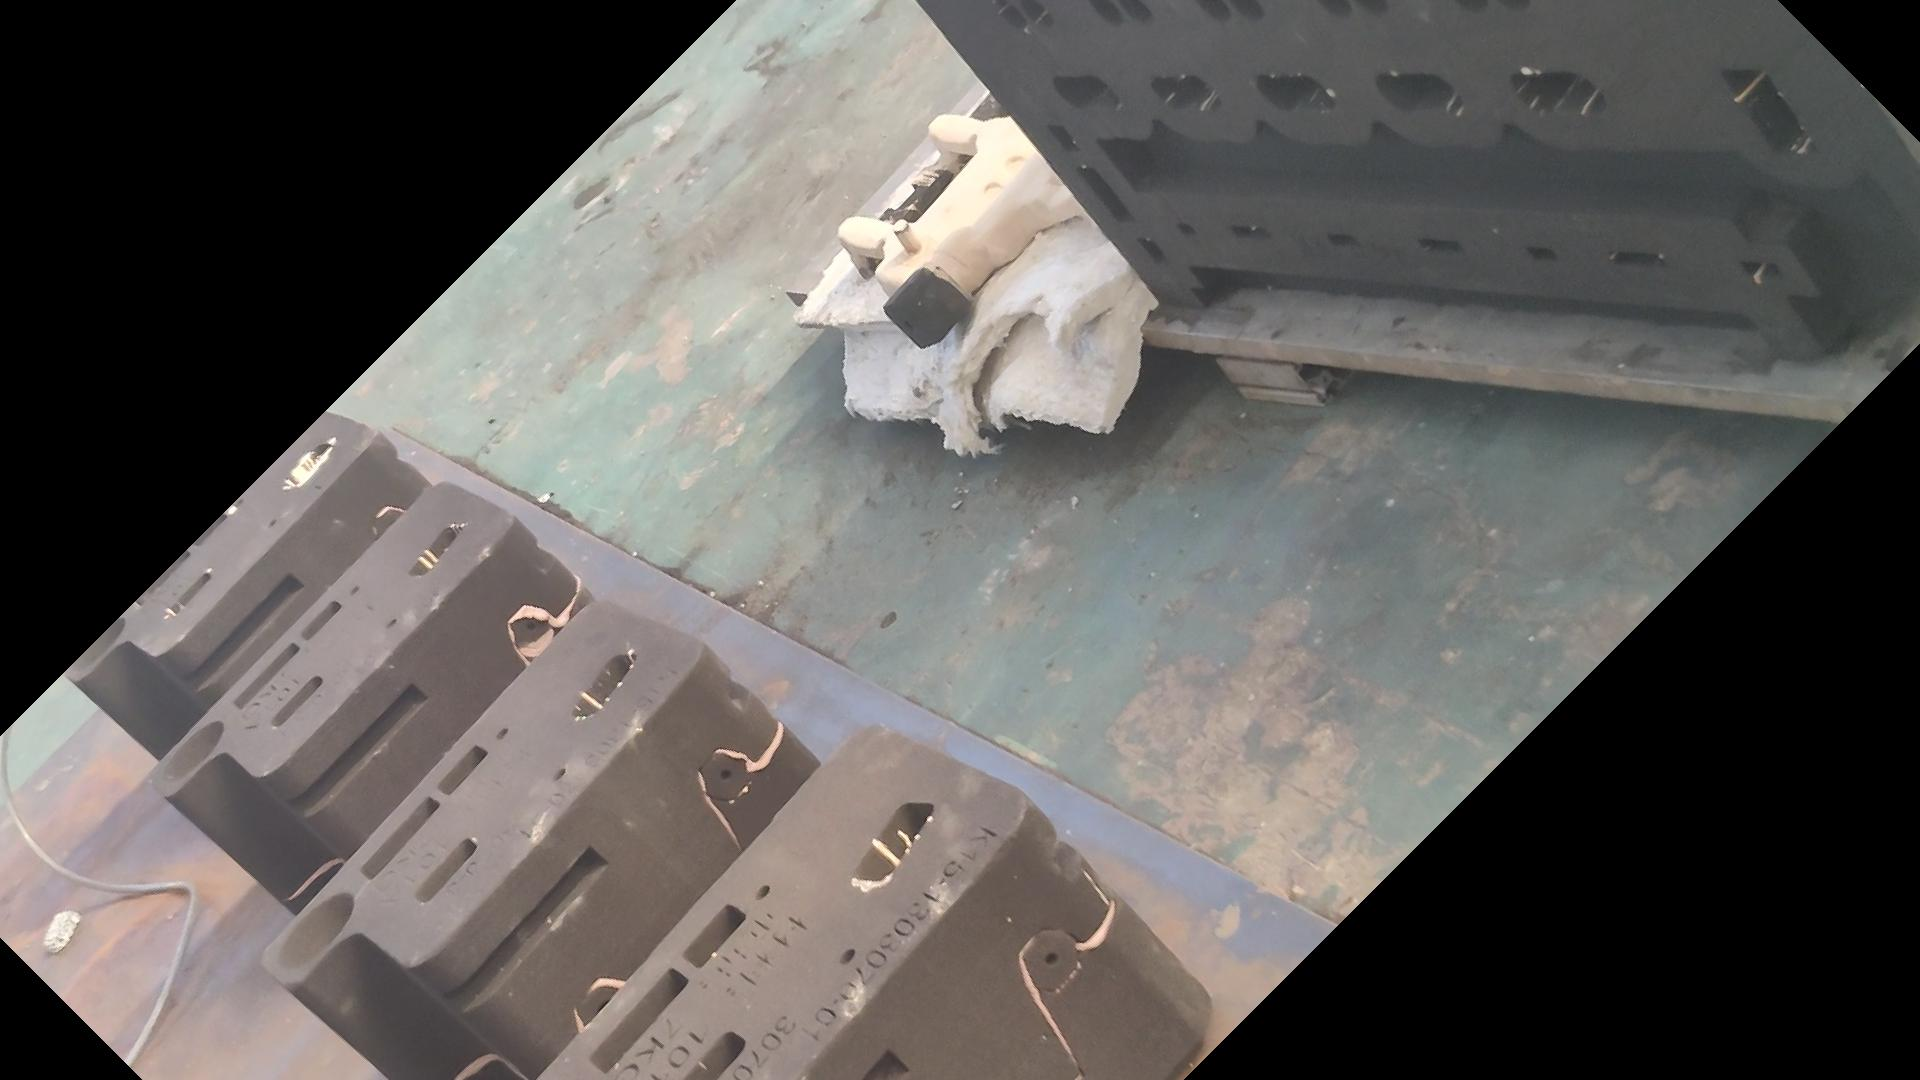pouring hole: (276, 891, 352, 972), (156, 720, 224, 786), (55, 617, 124, 680)
